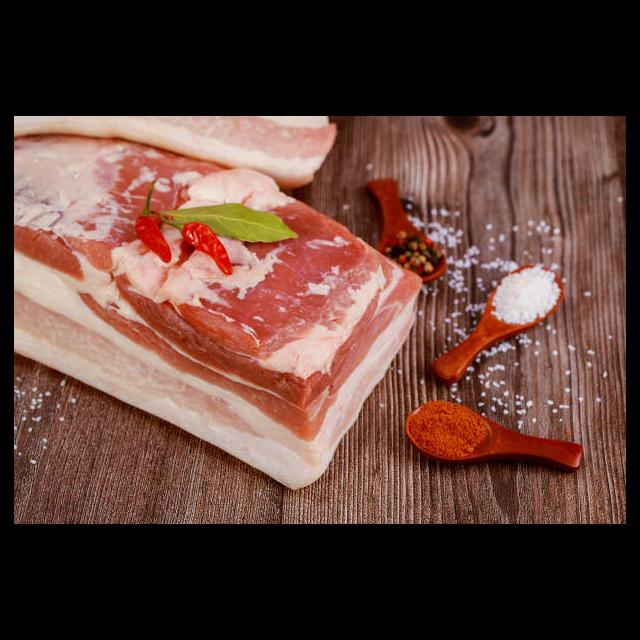pork: (14, 244, 404, 493)
